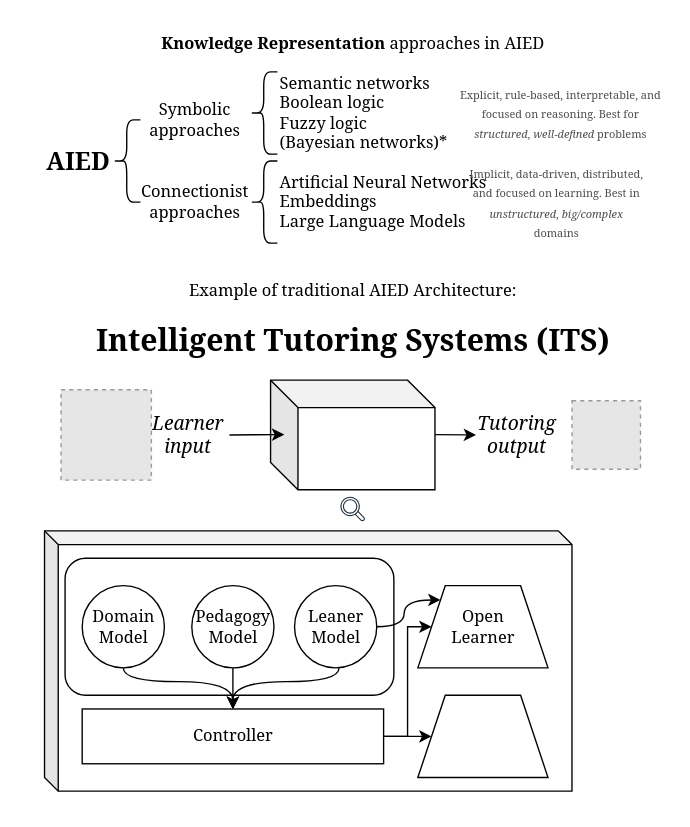
Image size: 690x827. Some labels were removed from this diagram. Grey dashed boxes stand in for pictures. Each missing label, with the centre of its shape:
"ITS" belongs at point (352, 434).
"User Interface" belongs at point (482, 735).
